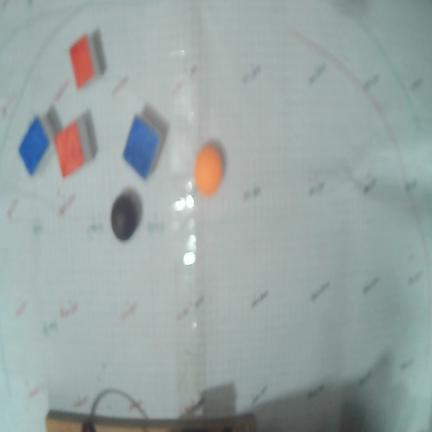circle_blue: (111, 188, 142, 241)
circle_orange: (194, 144, 223, 196)
rectangle_blue: (19, 117, 49, 175)
rectangle_orange: (70, 35, 94, 88)
square_blue: (123, 115, 159, 179)
square_orange: (55, 122, 85, 177)
